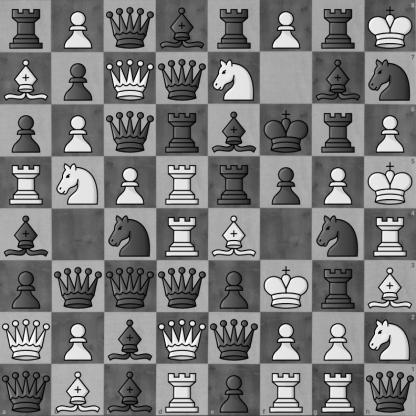B: (52, 364, 104, 416), (364, 260, 416, 312), (1, 53, 52, 104), (209, 209, 260, 260)
K: (364, 156, 416, 209), (364, 0, 416, 52), (261, 261, 312, 312)
N: (364, 312, 416, 364), (53, 157, 104, 208), (209, 53, 260, 104)
P: (364, 104, 416, 156), (53, 1, 104, 52), (53, 105, 104, 156), (53, 313, 104, 364), (105, 157, 156, 208), (261, 1, 312, 52), (261, 313, 312, 364), (313, 157, 364, 208), (313, 313, 364, 364)
Q: (1, 313, 52, 364), (105, 53, 156, 104), (157, 313, 208, 364)
R: (156, 364, 209, 416), (260, 364, 312, 416), (312, 364, 364, 416), (364, 209, 416, 260), (1, 157, 52, 208), (157, 157, 208, 208), (157, 209, 208, 260)
b: (104, 364, 156, 416), (1, 209, 52, 260), (105, 313, 156, 364), (157, 1, 208, 52), (209, 105, 260, 156), (313, 53, 364, 104)
board: (0, 0, 415, 415)
k: (261, 105, 312, 156)
n: (364, 52, 416, 104), (105, 209, 156, 260), (313, 209, 364, 260)
p: (209, 364, 260, 416), (1, 105, 52, 156), (1, 261, 52, 312), (53, 53, 104, 104), (209, 261, 260, 312), (261, 157, 312, 208)
q: (0, 364, 52, 416), (364, 364, 416, 416), (53, 261, 104, 312), (105, 1, 156, 52), (105, 105, 156, 156), (105, 261, 156, 312), (157, 53, 208, 104), (157, 261, 208, 312), (209, 313, 260, 364)
r: (1, 1, 52, 52), (157, 105, 208, 156), (209, 1, 260, 52), (209, 157, 260, 208), (313, 1, 364, 52), (313, 105, 364, 156), (313, 261, 364, 312)
